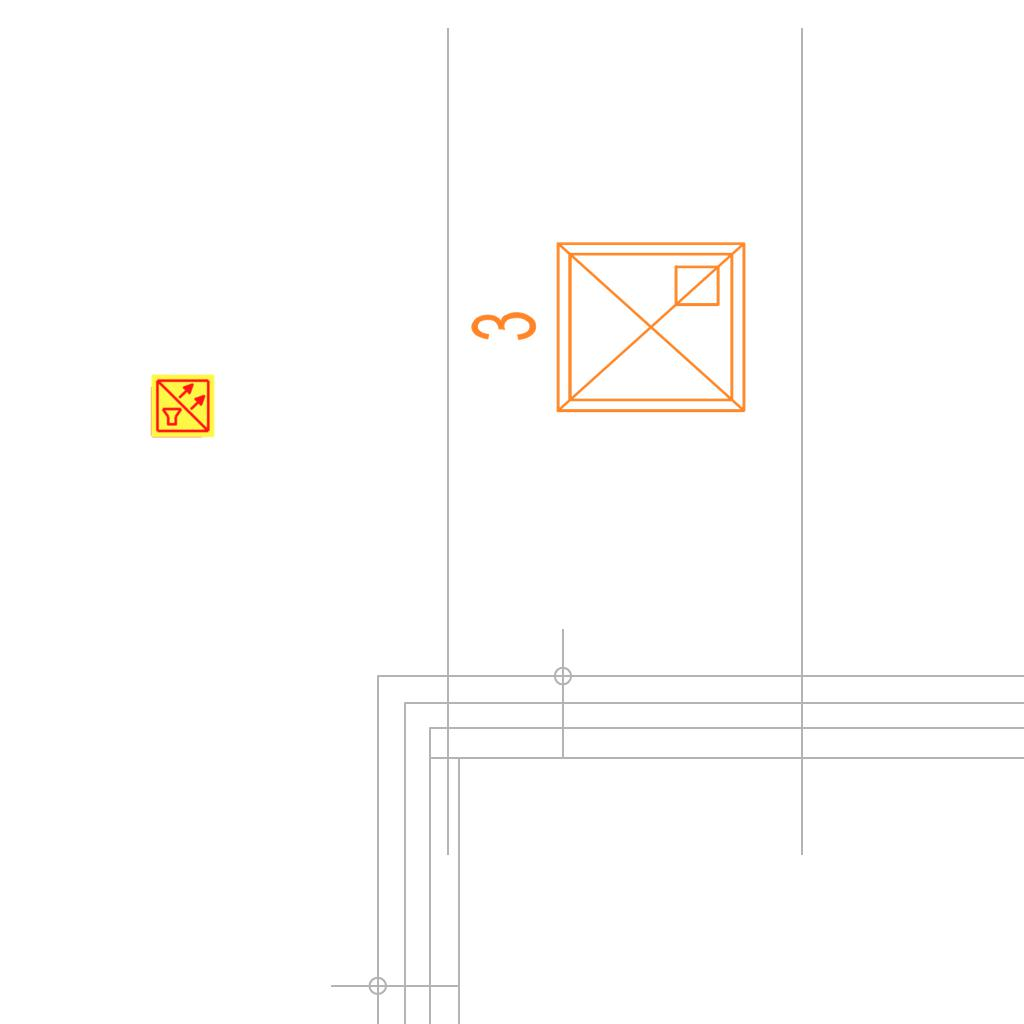Einbaudownlights_LED_Konferenzraeume: (460, 227, 760, 435)
OKW_Multisensormelder_(Kombination_optischer_Rauch-Kahlenmonoxid_Waerme-Melder): (150, 373, 216, 439)
